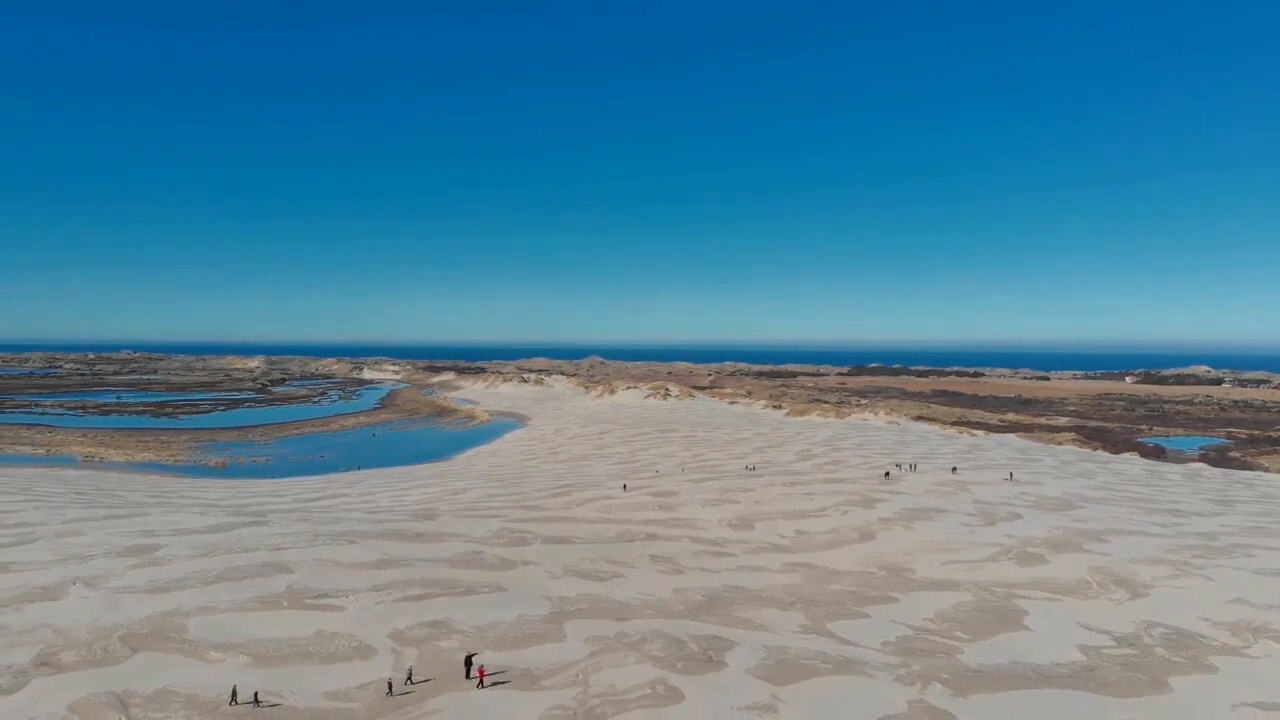insan: (460, 646, 478, 676), (476, 659, 489, 688), (226, 683, 239, 707), (249, 690, 263, 709), (403, 665, 417, 684), (384, 679, 396, 699)
